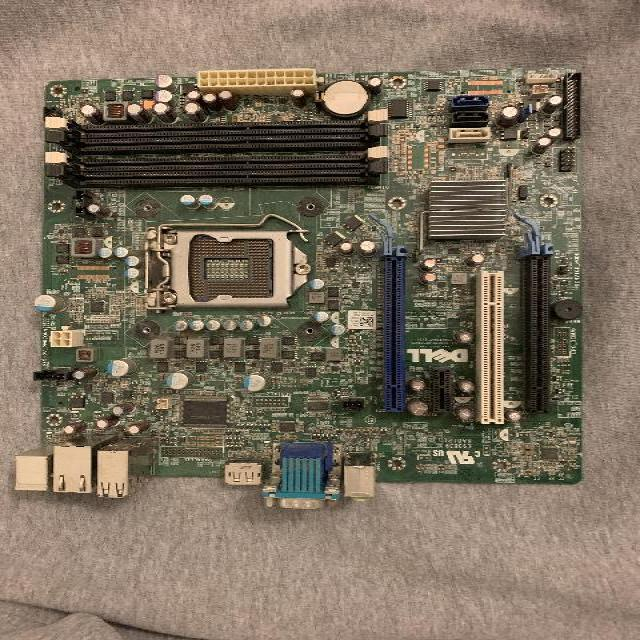Mainboard: (18, 65, 585, 508)
